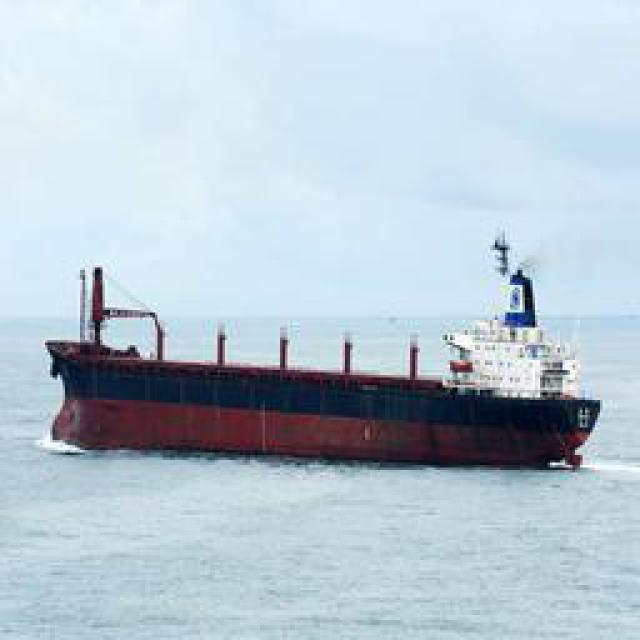Ship: (35, 255, 620, 470)
